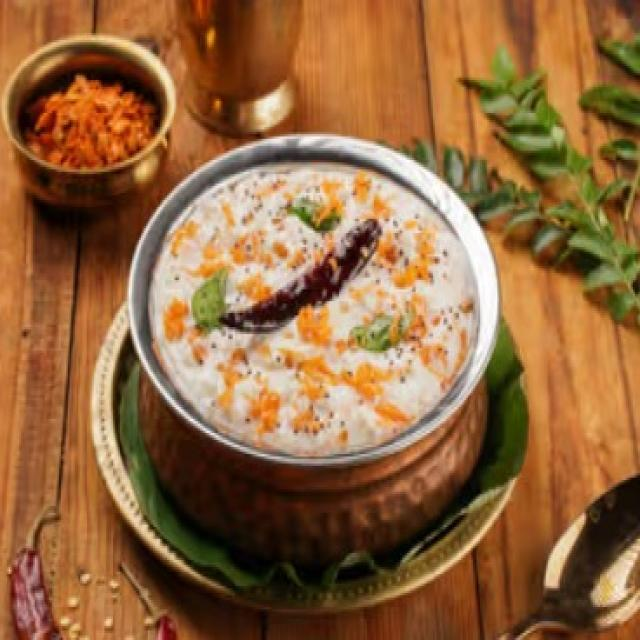CURD RICE: (153, 152, 476, 453)
CURRY: (23, 64, 164, 166)
